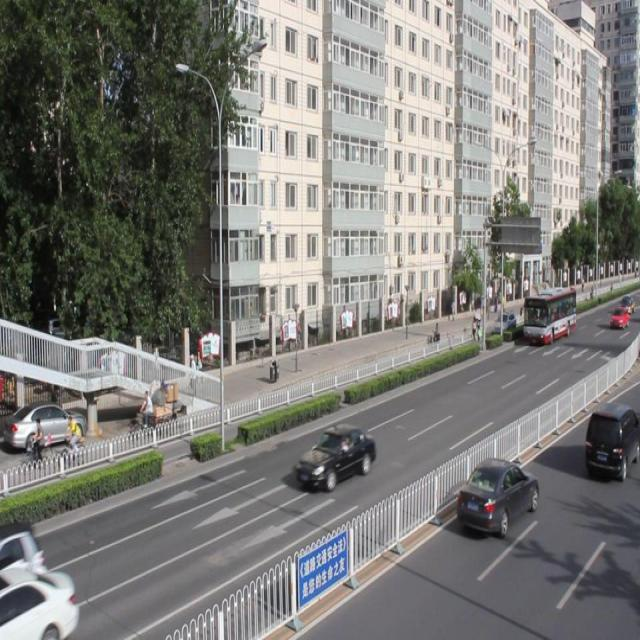car: (455, 454, 539, 537), (1, 565, 78, 640), (296, 420, 375, 489), (583, 400, 640, 478)
